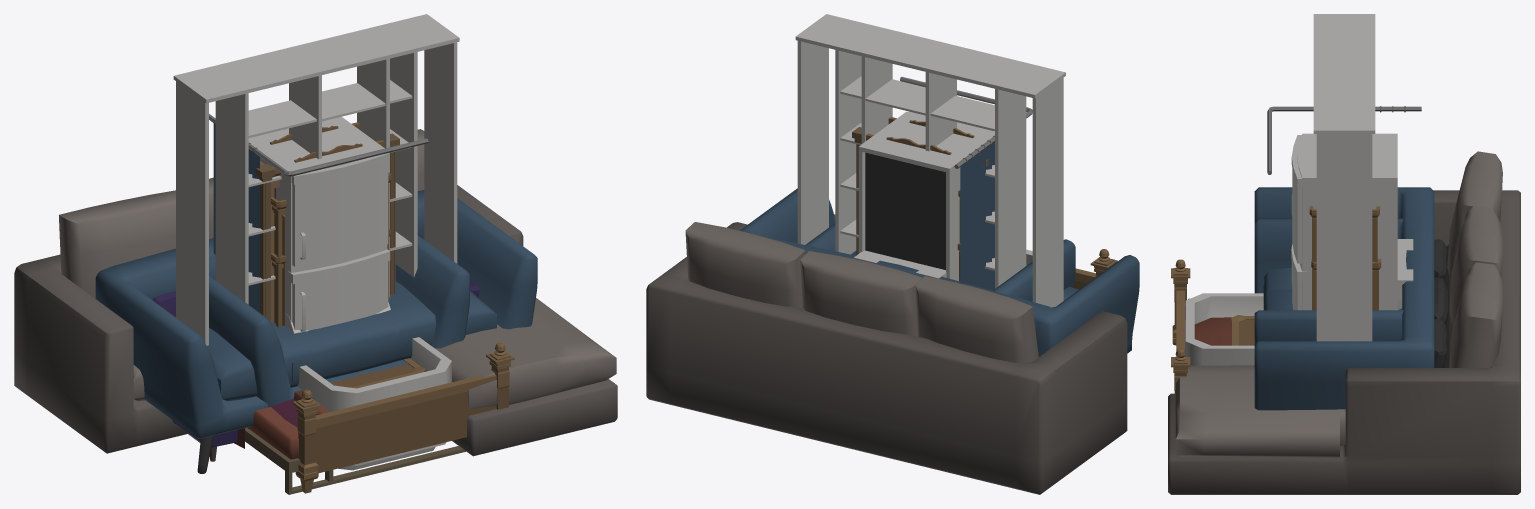
File: furniture.glb
3 renders of one model, left to right at view 1: azimuth 30°, elevation 25°; view 2: azimuth 150°, elevation 25°; view 3: azimuth 270°, elevation 25°, orthographic. The views are drawn at different scales.
Visible parts, largest first — view 1: Couch_L, Couch_Medium1, Shelf_Large, Bookshelf, Kitchen_Fridge, Couch_Small1, BedFrame, Bathroom_Bathtub, BookCase_Single, Bed_King, Bathroom_Shower1, Closet (+3 smaller); view 2: Couch_L, Shelf_Large, Bookshelf, Kitchen_Fridge, Couch_Medium1, Bathroom_Shower1, Couch_Small1, BookCase_Single, Bathroom_Toilet, BedFrame; view 3: Couch_L, Shelf_Large, Couch_Medium1, Kitchen_Fridge, Couch_Small1, Bathroom_Bathtub, Bookshelf, Sofa3, BedFrame, Bed_Single, Closet, Bathroom_Shower1 (+3 smaller).
Part boxes in pixels (x1,y1,x2,y2): Couch_L: (14,129,617,456); Couch_Medium1: (95,190,537,473); Shelf_Large: (173,14,459,442); Bookshelf: (214,24,419,304); Kitchen_Fridge: (248,116,390,331); Couch_Small1: (209,235,469,407); BedFrame: (292,342,514,493); Bathroom_Bathtub: (297,337,451,470); BookCase_Single: (255,122,399,322); Bed_King: (234,407,465,494); Bathroom_Shower1: (209,114,428,312); Closet: (271,172,391,327); Couch_L: (646,214,1127,494); Shelf_Large: (795,14,1065,307); Bookshelf: (833,23,1027,288); Kitchen_Fridge: (858,111,994,281); Couch_Medium1: (740,188,1139,356); Bathroom_Shower1: (900,76,1032,290); Couch_Small1: (805,223,1075,301); BookCase_Single: (852,117,988,255); Bathroom_Toilet: (854,250,946,278); BedFrame: (1073,249,1117,289); Couch_L: (1168,151,1520,494); Shelf_Large: (1313,14,1375,341); Couch_Medium1: (1254,187,1434,410); Kitchen_Fridge: (1291,133,1397,310); Couch_Small1: (1254,218,1433,343); Bathroom_Bathtub: (1185,293,1263,365); Bookshelf: (1313,32,1375,112); Sofa3: (1434,239,1453,367); BedFrame: (1171,259,1190,410); Bed_Single: (1194,317,1231,345); Closet: (1309,206,1379,310); Bathroom_Shower1: (1267,106,1421,174).
Size of the model in its own units: 5.61 by 4.44 by 4.33.
